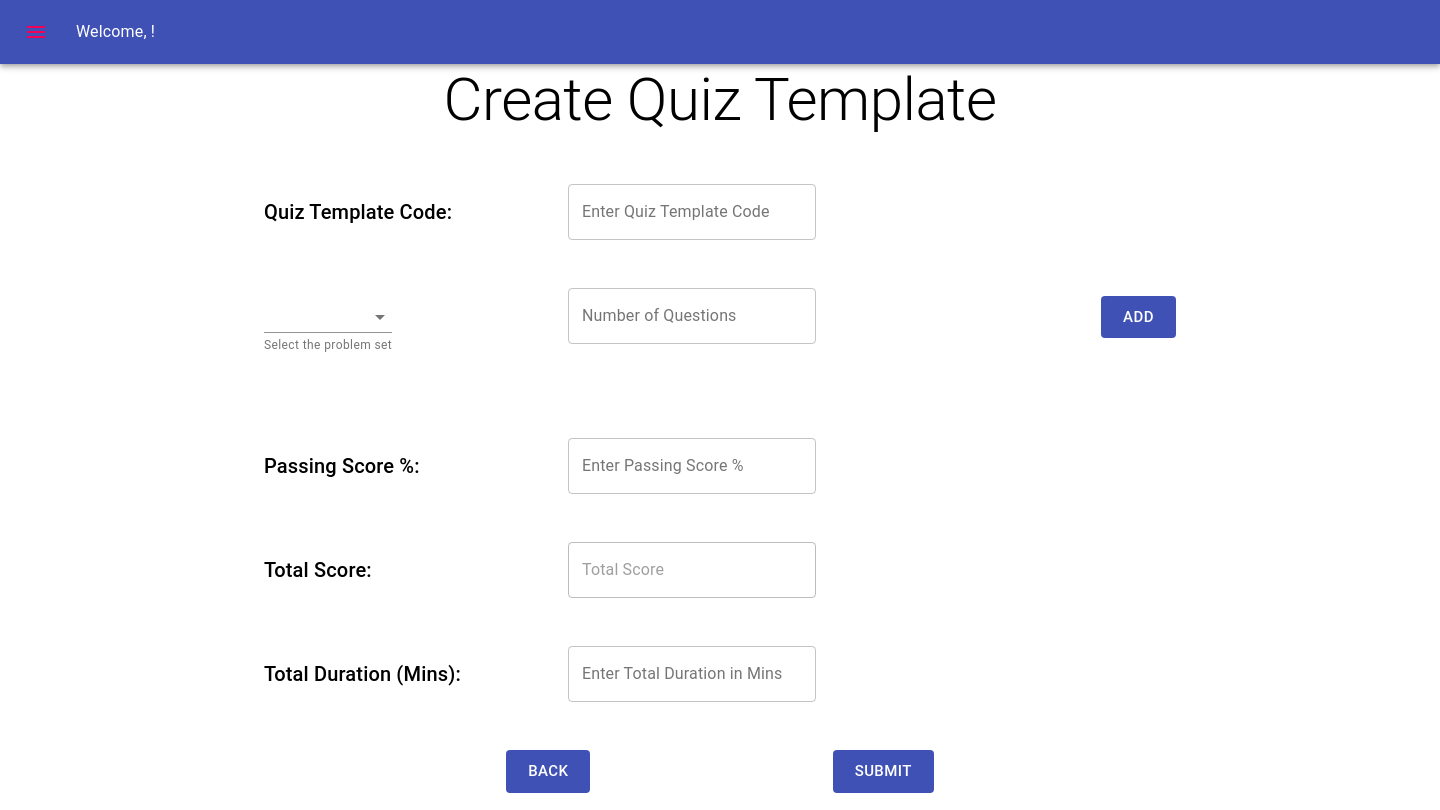
Test: Quiz Template Test › should show empty drop down when there is no problem set data
Press the mouse on the button with test id "problemSetCode-select": (328, 316) [264,300,392,332]
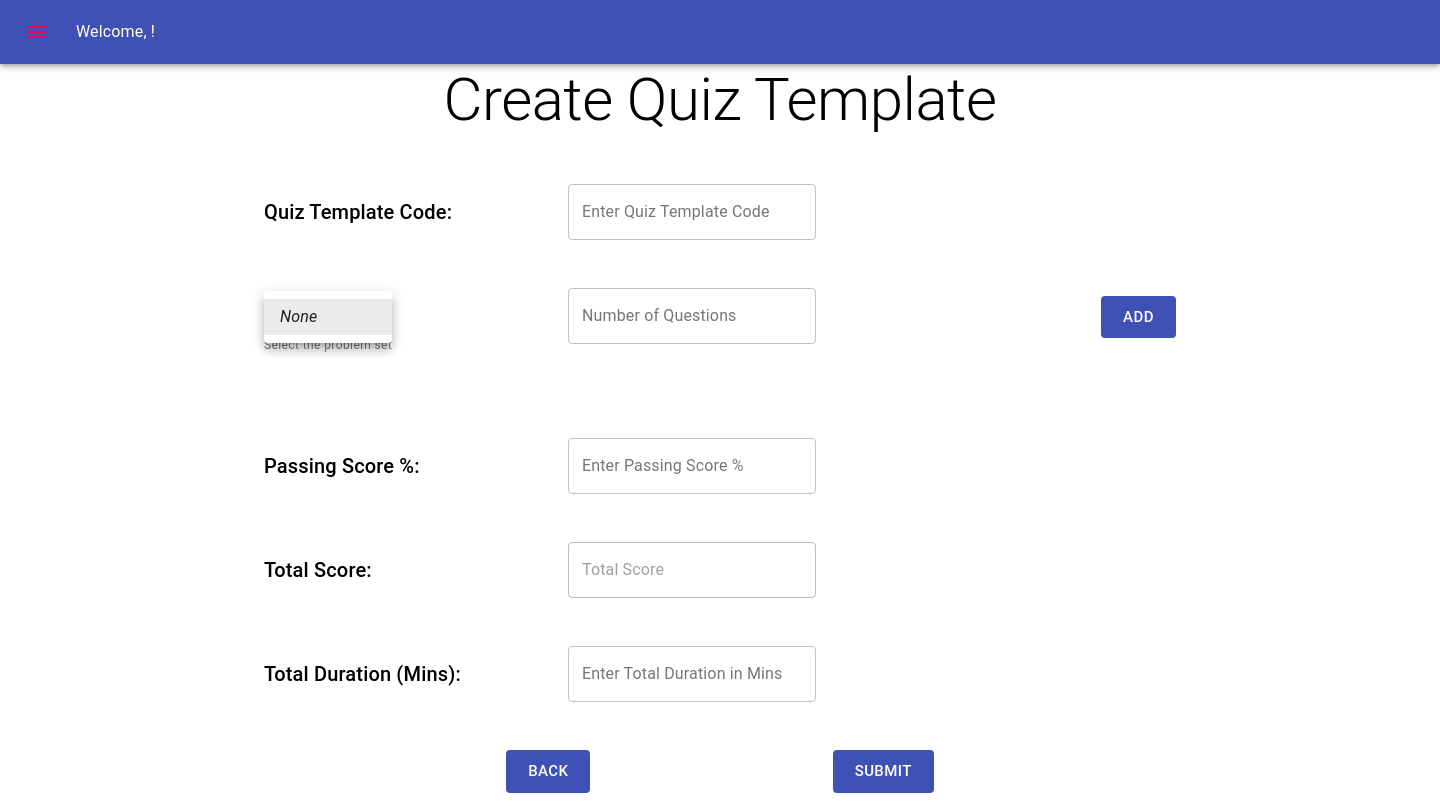
Check: the text "None" is shown, box [280,305,317,329]
